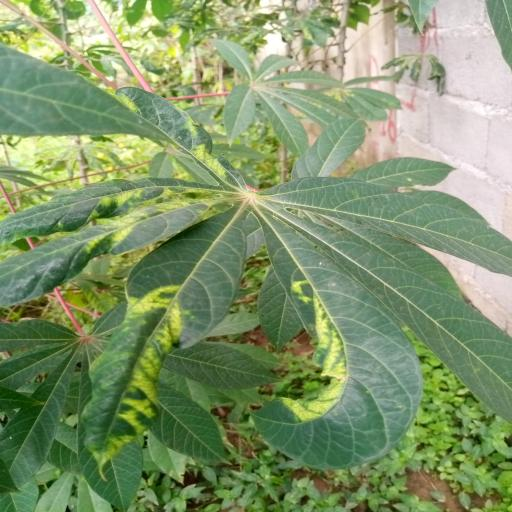Cassava_Mosaic: (0, 74, 512, 466)
